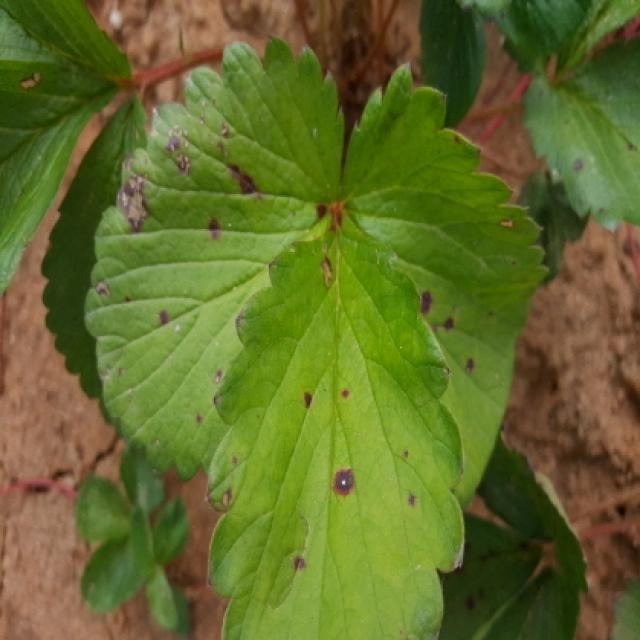Leaf Spot: (83, 32, 347, 485), (201, 203, 466, 638), (339, 62, 552, 508), (522, 37, 638, 233)
